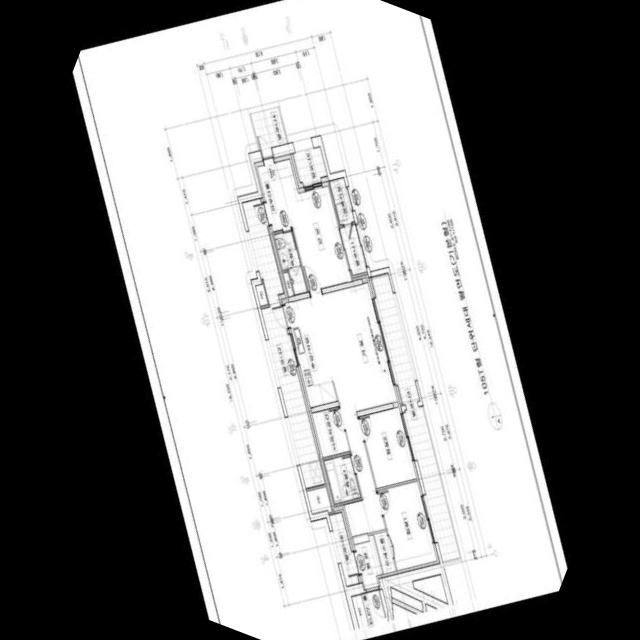background: (73, 0, 567, 640)
space_balconi: (371, 272, 459, 560), (242, 198, 324, 487), (329, 511, 359, 585), (340, 223, 366, 273), (293, 146, 327, 184)
space_bedroom: (275, 152, 353, 290), (377, 480, 440, 573), (359, 405, 418, 487)
space_dressroom: (254, 156, 292, 231), (374, 530, 396, 576)
space_elevator_hall: (361, 588, 388, 625)
space_front: (350, 532, 384, 588)
space_kitchen: (281, 296, 337, 407)
space_living_room: (311, 281, 399, 536)
space_multipurpose_space: (312, 406, 349, 456)
space_other: (306, 486, 332, 513), (255, 283, 268, 305), (283, 271, 293, 295)
space_outdoor_room: (329, 177, 354, 223)
space_toilet: (274, 230, 307, 293), (324, 454, 360, 502)
